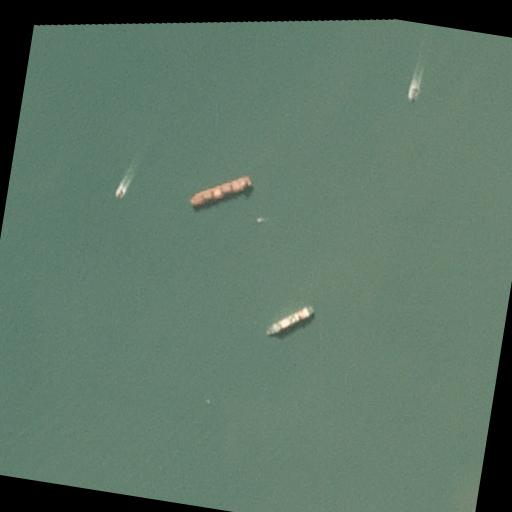ship: (189, 168, 253, 213), (264, 300, 316, 342), (408, 83, 418, 103), (114, 186, 122, 199)
